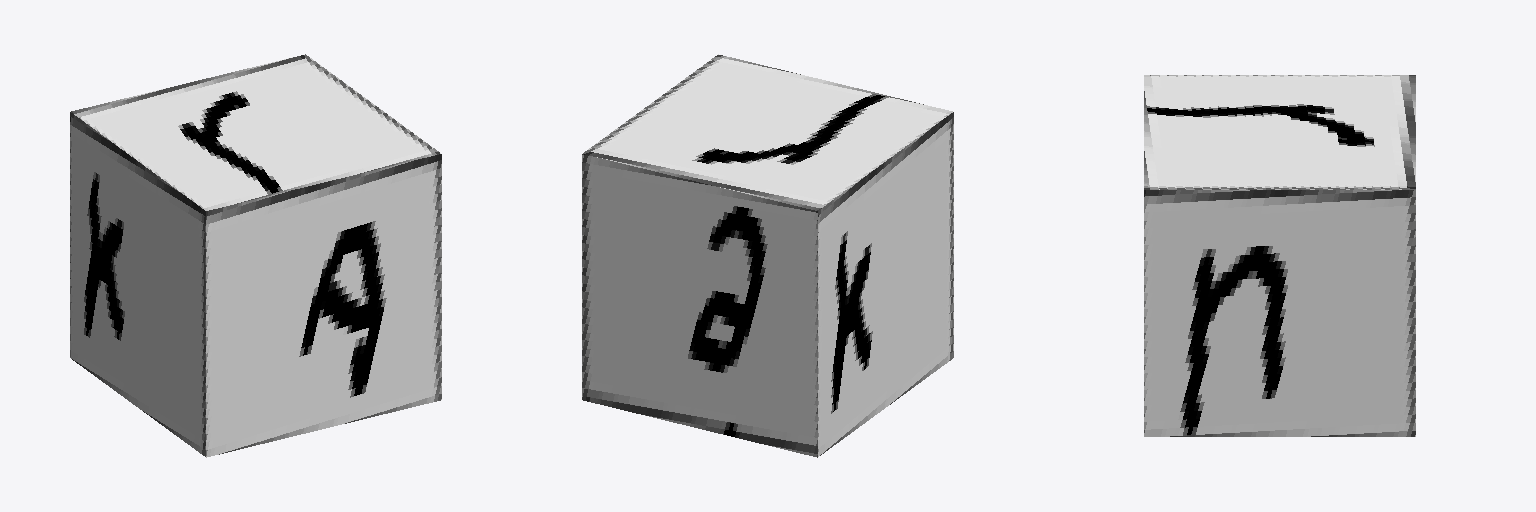
3 renders of one model, left to right at view 1: azimuth 30°, elevation 25°; view 2: azimuth 150°, elevation 25°; view 3: azimuth 270°, elevation 25°, orthographic.
Visible parts, largest first — view 1: Cube; view 2: Cube; view 3: Cube.
Boxes of the visible parts, x1,y1,x2,y2 form: Cube: [70, 54, 441, 457]; Cube: [582, 54, 953, 457]; Cube: [1144, 75, 1415, 436].
Size of the model in its own units: 2 by 2 by 2.
1 materials, 1 textured.